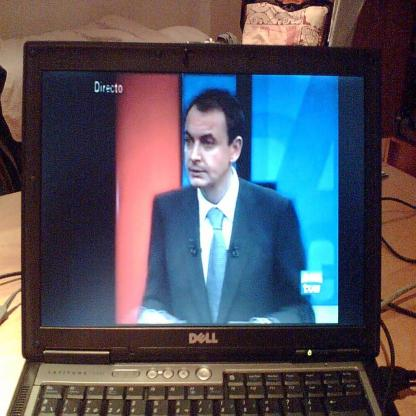board: (0, 64, 404, 416)
